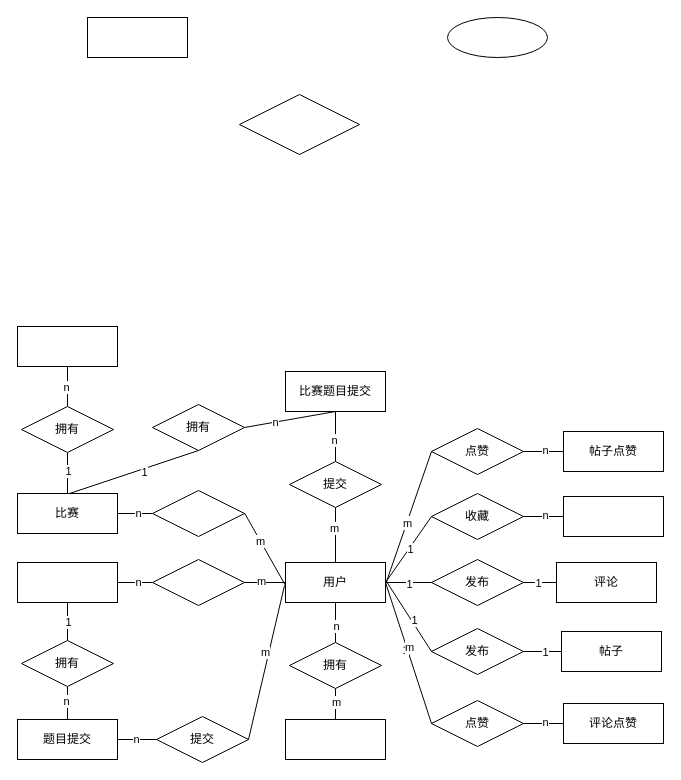
Image size: 681x780. Some labels were removed from this diagram. Here are the shapes that lost their labels. From the top down, the box of each, then its label:
(86, 16, 188, 58): Entity
(446, 16, 548, 58): Attribute
(238, 94, 360, 154): Relationship
(16, 326, 118, 366): 比赛题目
(152, 490, 244, 536): 参加
(562, 496, 664, 536): 帖子收藏
(16, 562, 118, 602): 题目
(152, 558, 244, 606): 查看
(284, 718, 386, 760): 用户比赛总排名
